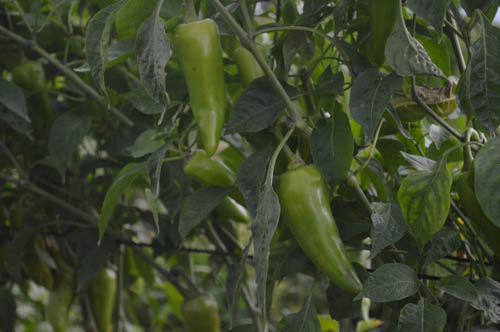ChiliPepper: (281, 164, 366, 294), (174, 18, 220, 157), (186, 152, 242, 197), (87, 269, 115, 327), (47, 271, 74, 327), (183, 297, 222, 328), (235, 42, 264, 80)
